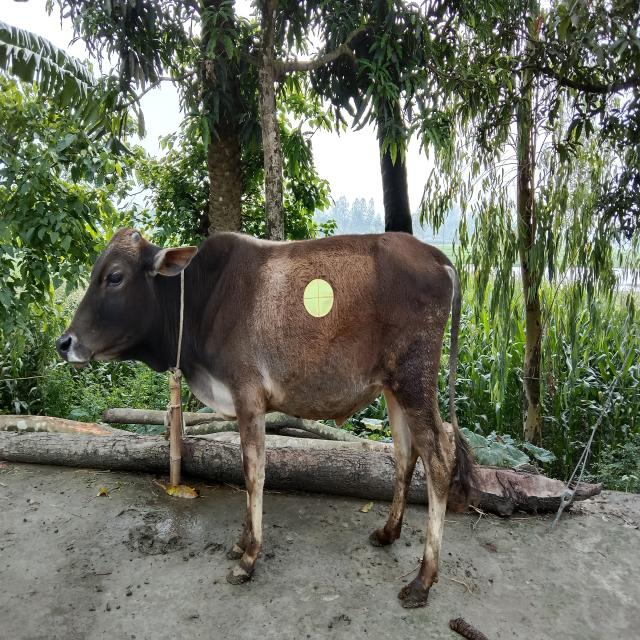badan_sapi: (189, 235, 455, 420)
sapi: (53, 210, 486, 617)
